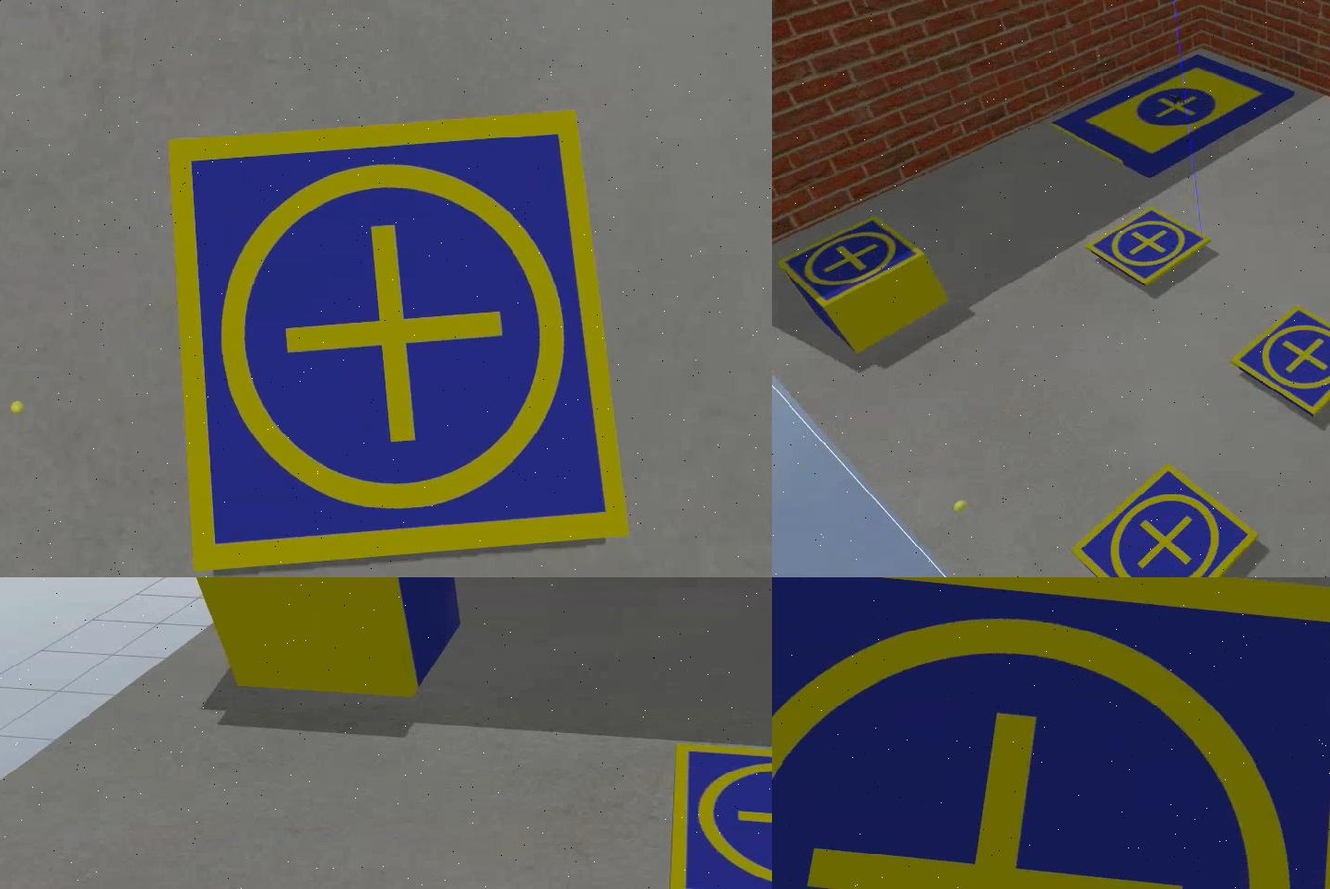large_base: (1047, 53, 1293, 182)
small_base: (161, 102, 625, 575), (771, 578, 1328, 889), (1068, 465, 1260, 578), (663, 746, 771, 889), (772, 217, 924, 312), (1226, 304, 1328, 417), (1085, 209, 1211, 288)
